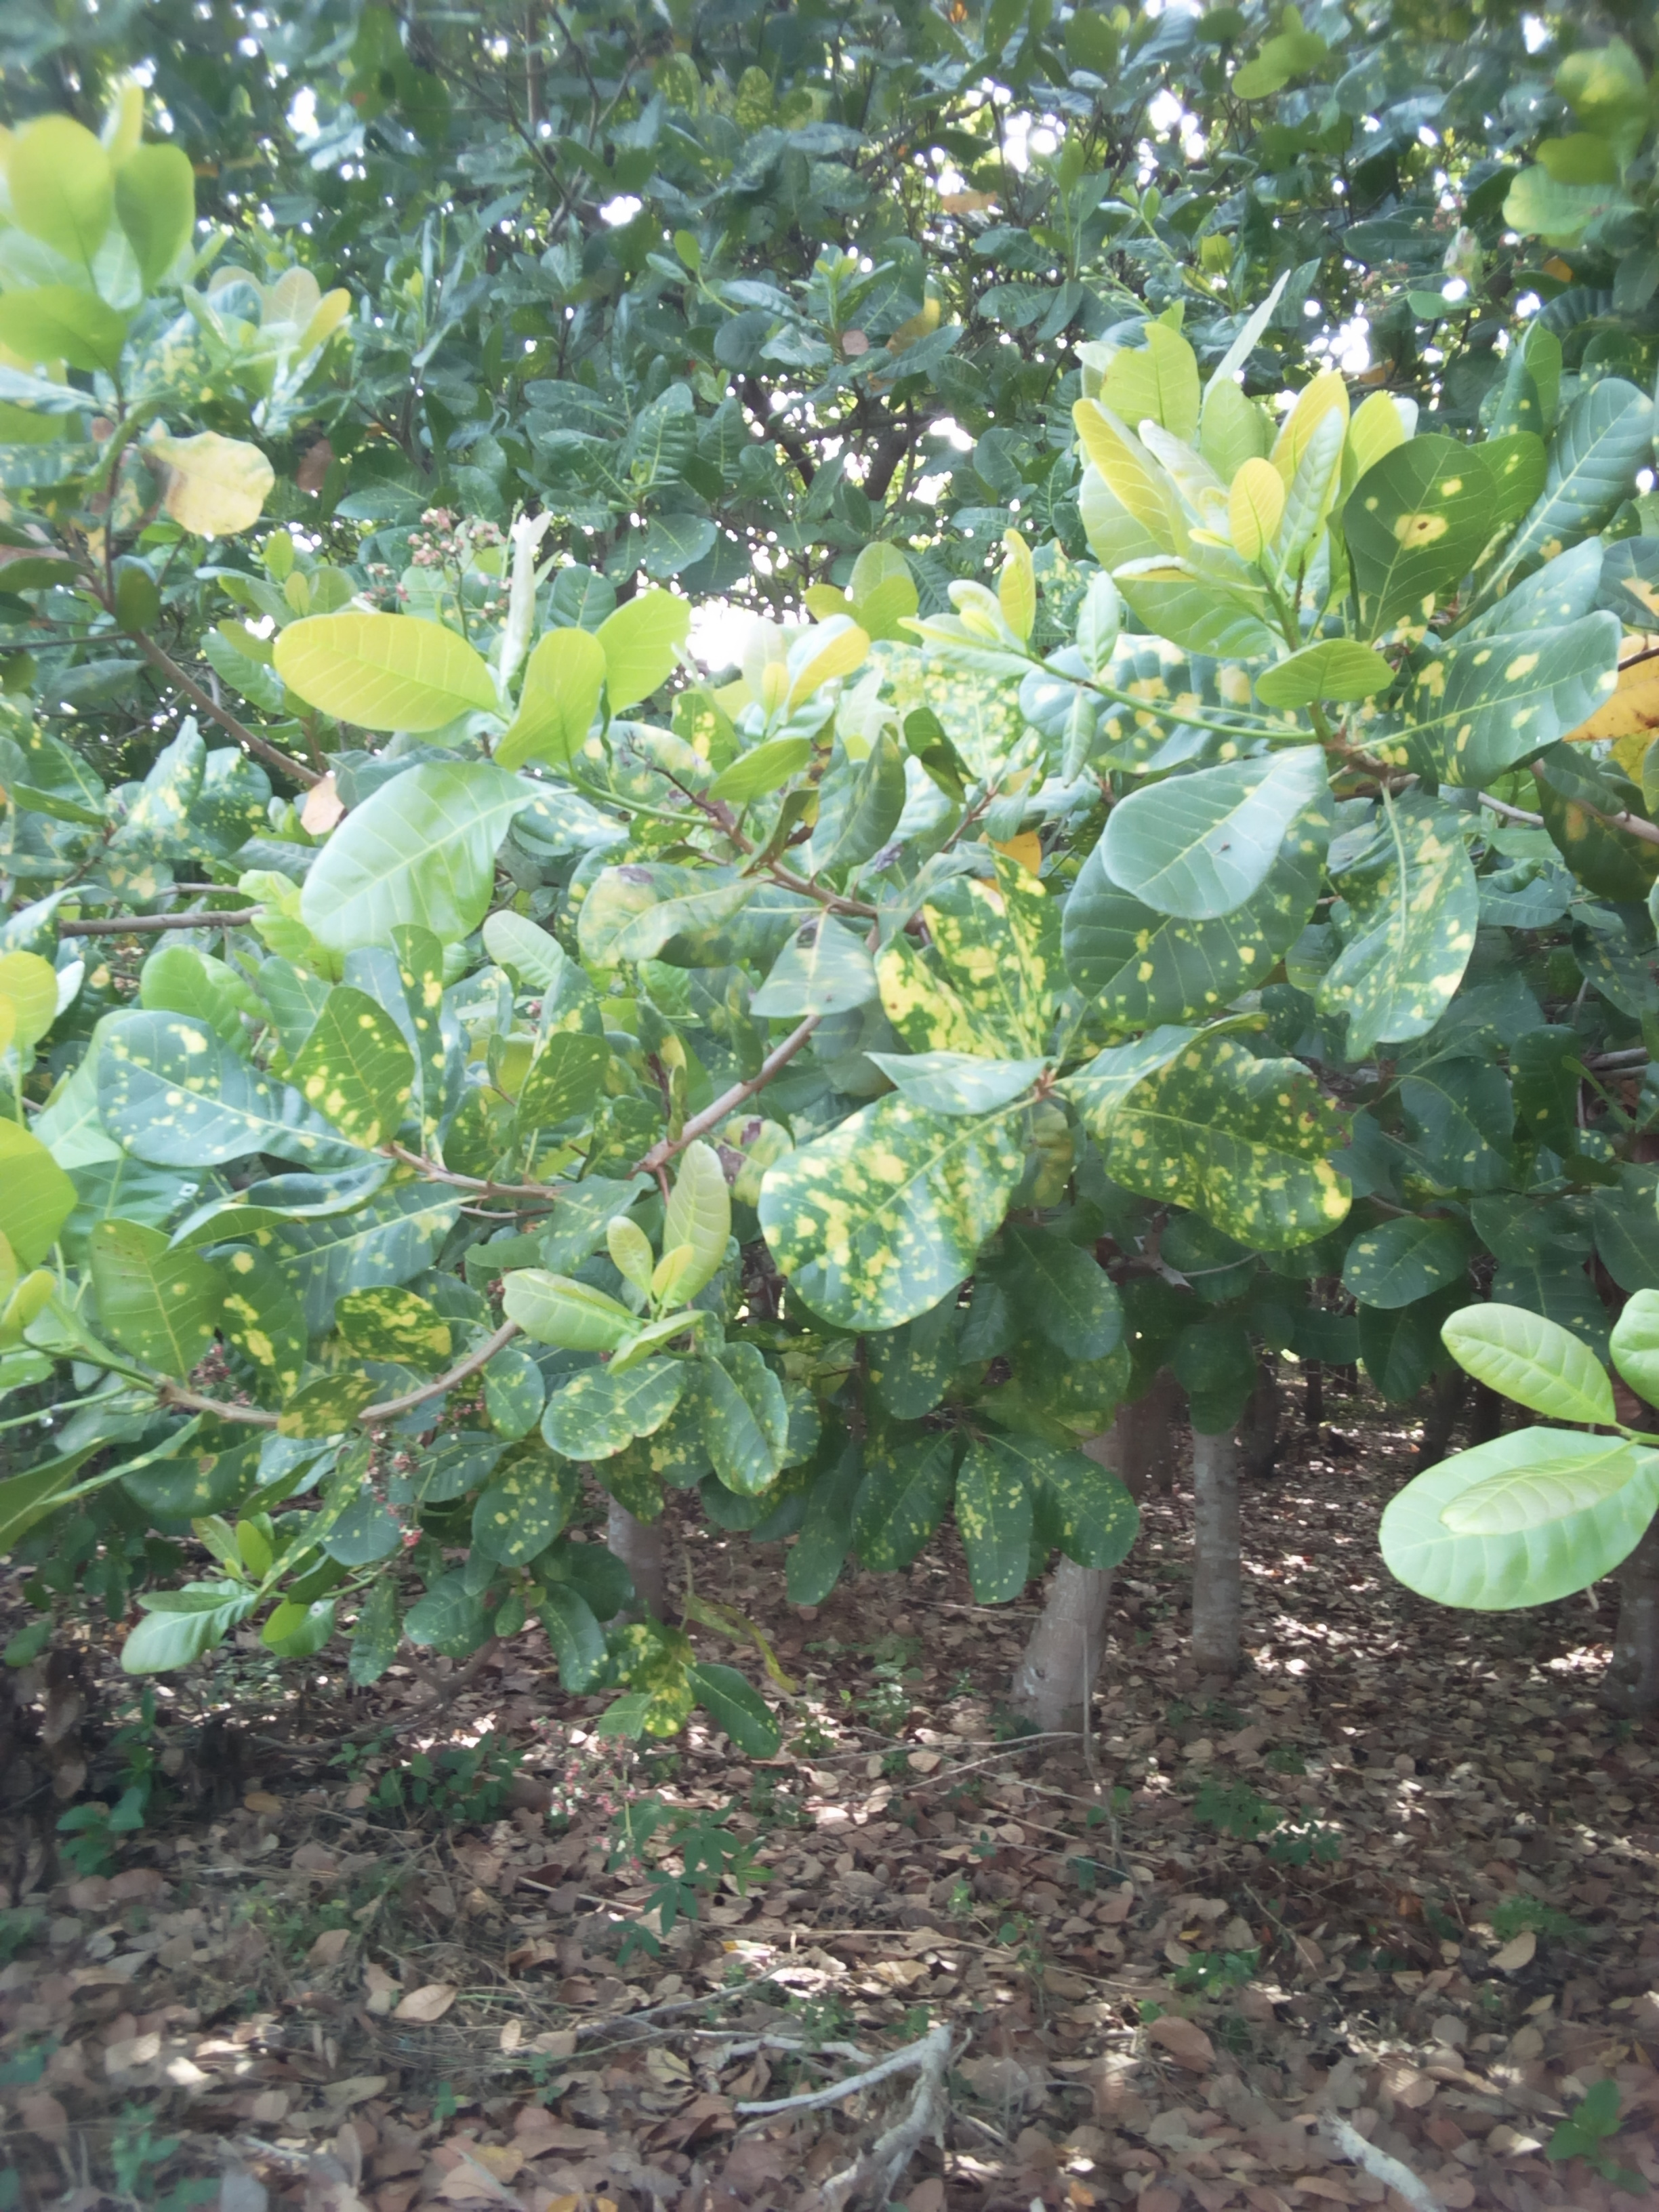Carence minérale: (748, 1089, 1053, 1339), (1364, 580, 1652, 801), (1084, 1035, 1368, 1252), (1310, 784, 1500, 1096), (80, 1005, 375, 1200), (870, 883, 1056, 1075)
